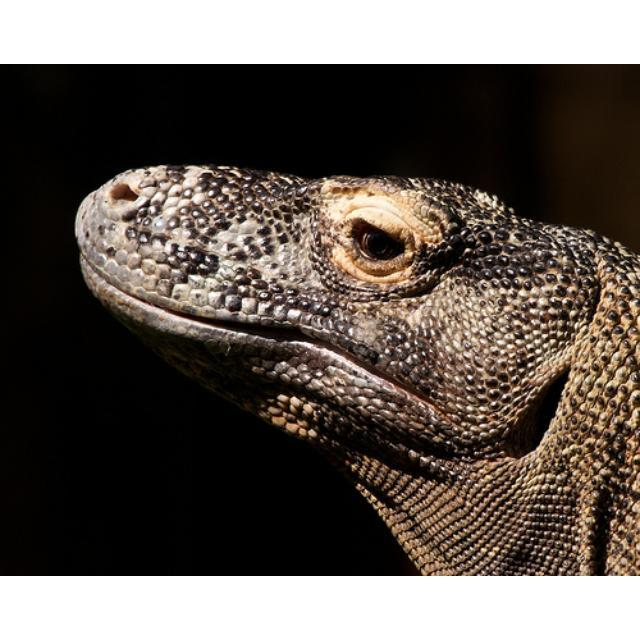KomodoDragon: (75, 161, 638, 574)
